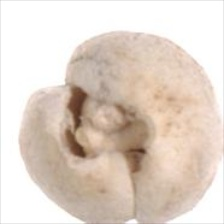L3: (59, 78, 153, 173)
L4: (18, 31, 219, 222)
